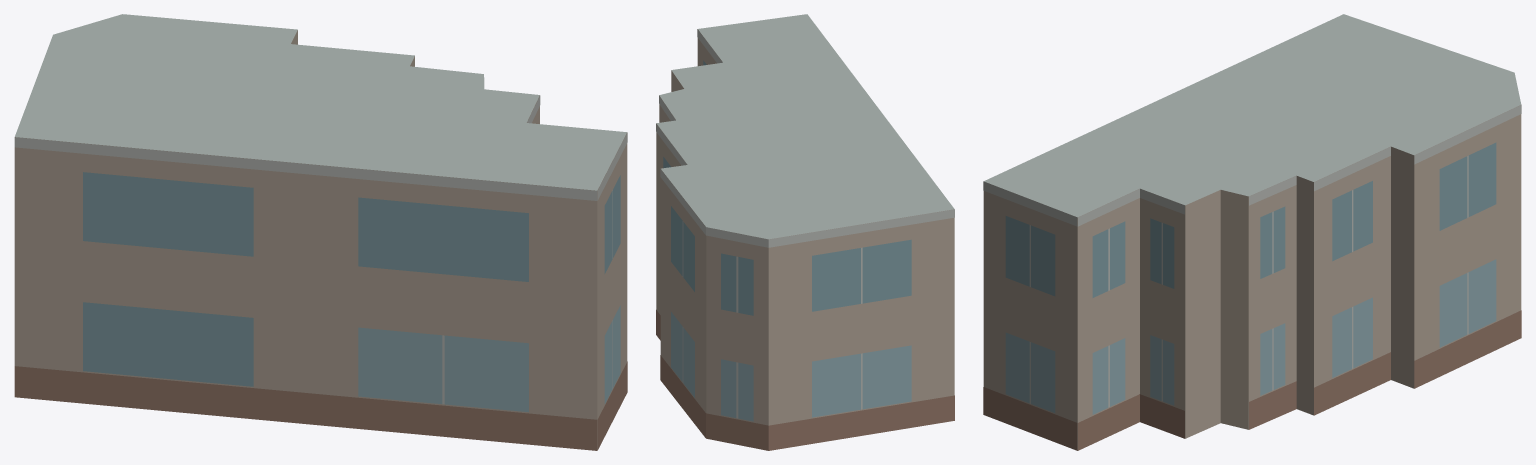
The model's file is survey-upis-32986615.glb.
The picture shows the model from 3 angles, left to right: view 1: azimuth 30°, elevation 25°; view 2: azimuth 150°, elevation 25°; view 3: azimuth 270°, elevation 25°; orthographic projection. The views are drawn at different scales.
Visible parts, largest first — view 1: survey-upis-32986615.tmp; view 2: survey-upis-32986615.tmp; view 3: survey-upis-32986615.tmp.
Boxes of the visible parts, x1=… form: survey-upis-32986615.tmp: x1=14, y1=14, x2=627, y2=450; survey-upis-32986615.tmp: x1=656, y1=14, x2=954, y2=450; survey-upis-32986615.tmp: x1=983, y1=14, x2=1521, y2=450.
Bounding box in the file's own units: 11.41 × 6.1 × 12.75.
